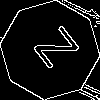Z: (25, 25, 80, 77)
